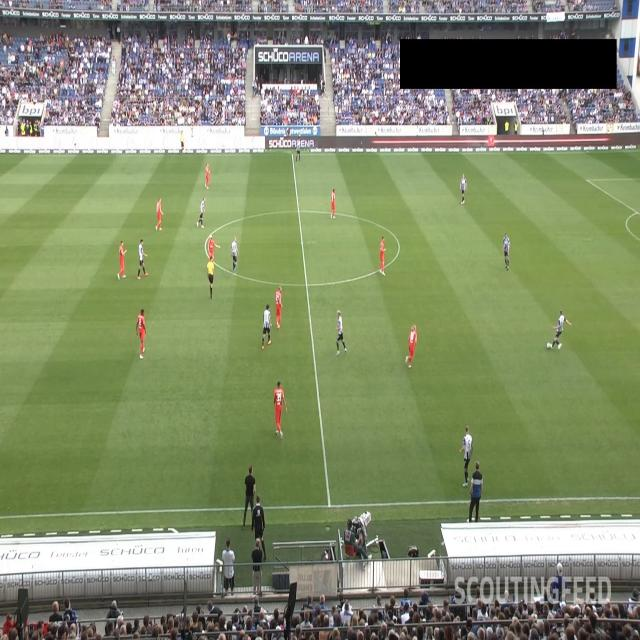ball: (546, 342, 550, 349)
